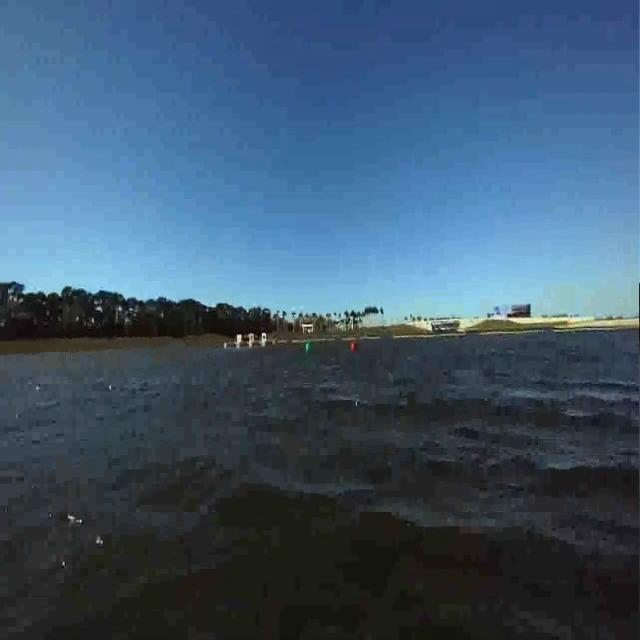green-buoy: (302, 342, 322, 361)
red-buoy: (344, 331, 362, 356)
